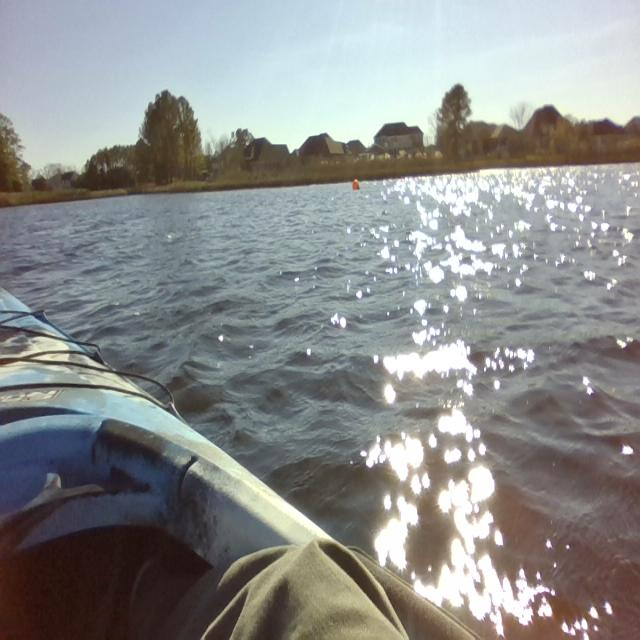Buoy: (352, 175, 362, 198)
